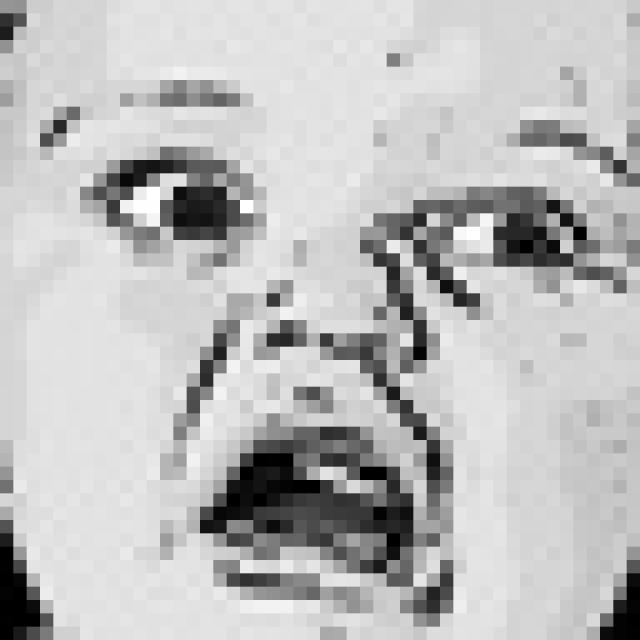disgust: (47, 88, 624, 630)
